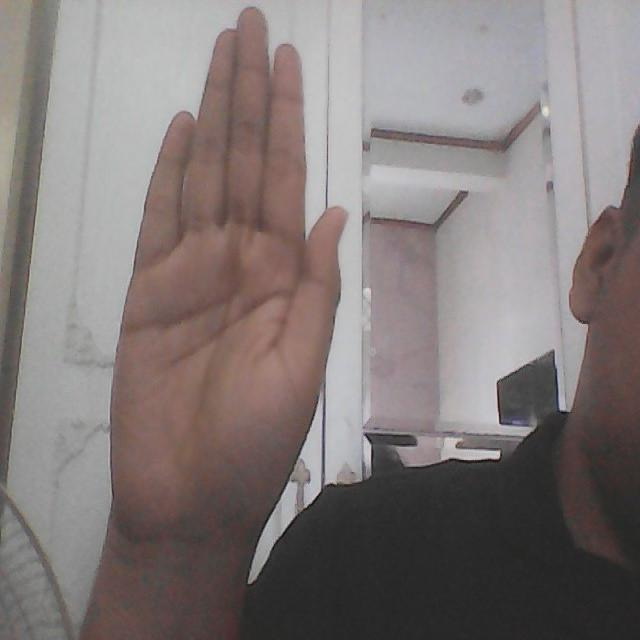hand: (115, 3, 345, 640)
